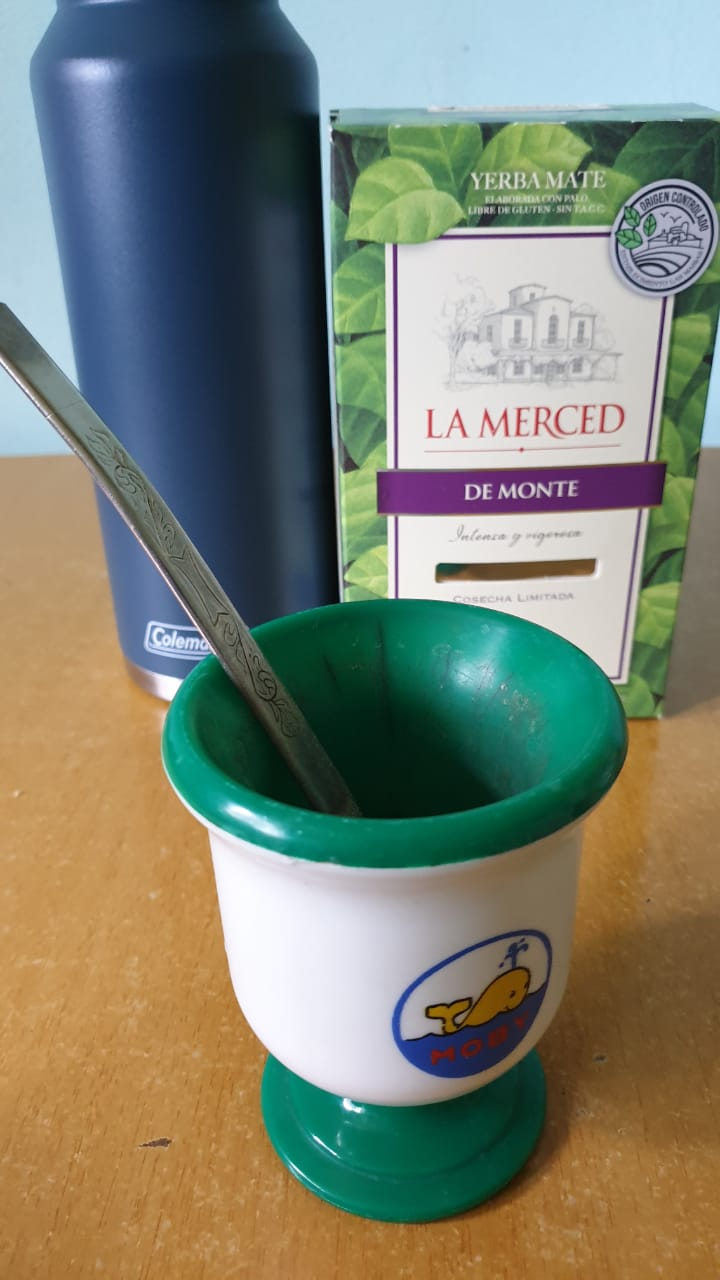mate: (141, 587, 637, 1233)
plastico: (151, 595, 633, 1221)
